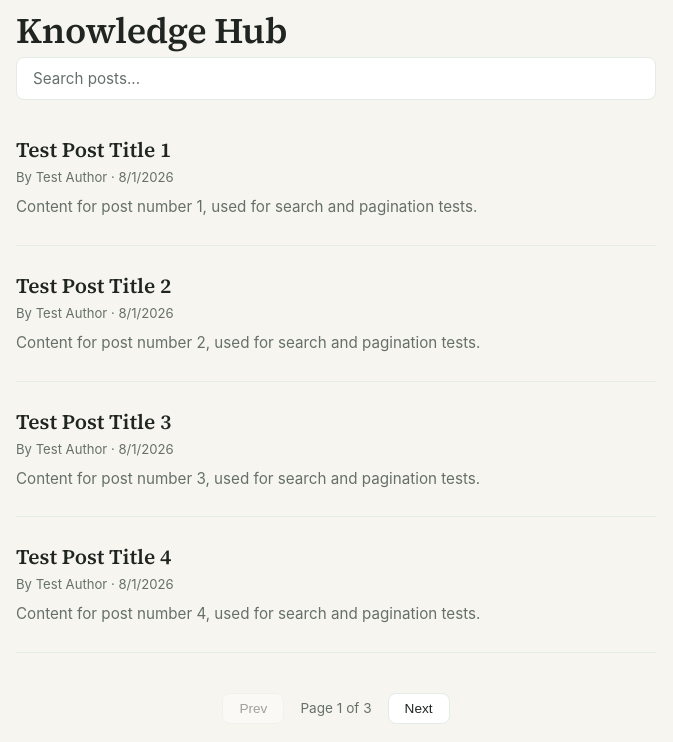
HomePage — interactions › clicking Next shows the next page
Expected: the link "Test Post Title 1" is shown, [16,135,172,164]
Expected: the link "Test Post Title 4" is shown, [16,542,172,571]
Click the button "Next": point(419, 708) [388,693,450,724]
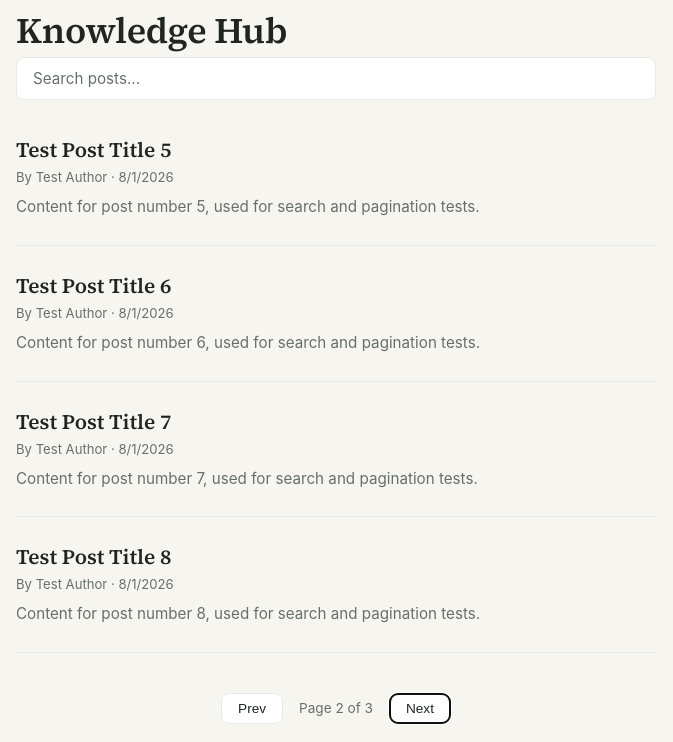
Expected: the link "Test Post Title 5" is shown, [16,135,172,164]
Expected: the link "Test Post Title 1" is gone
